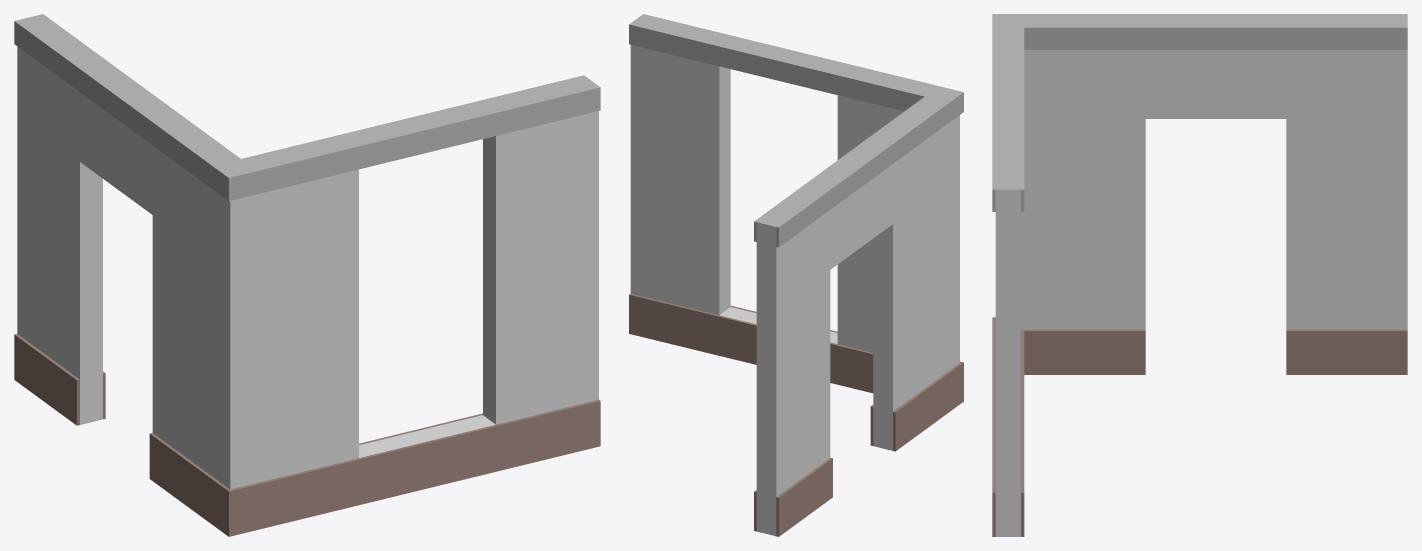
Rendered from Wall06-02.fbx.
3 views of the same model, side by side, from view 1: azimuth 30°, elevation 25°; view 2: azimuth 150°, elevation 25°; view 3: azimuth 270°, elevation 25° (orthographic). The views are drawn at different scales.
Parts seen in each view (by area): view 1: Wall06-02; view 2: Wall06-02; view 3: Wall06-02.
Part boxes in pixels (<box>): Wall06-02: <box>14,14,600,536</box>; Wall06-02: <box>629,14,963,536</box>; Wall06-02: <box>992,14,1407,536</box>.
Size of the model in its own units: 3.25 by 3.25 by 3.
